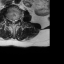CCS_normal: (12, 17, 14, 26)
LFS_stenosis: (16, 16, 18, 23)
LLS_stenosis: (14, 17, 16, 24)
RFS_stenosis: (8, 16, 10, 22)
RLS_stenosis: (10, 17, 12, 24)
